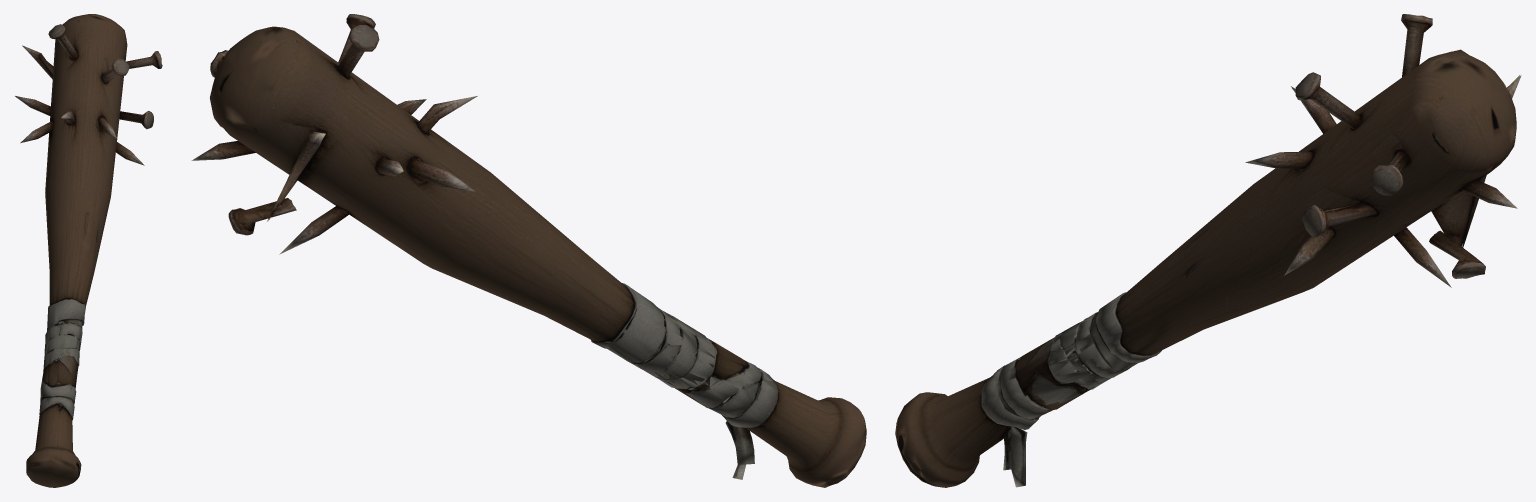
Rendered from selected.glb.
3 views of the same model, side by side, from view 1: azimuth 30°, elevation 25°; view 2: azimuth 150°, elevation 25°; view 3: azimuth 270°, elevation 25° (orthographic). The views are drawn at different scales.
Parts seen in each view (by area): view 1: tripo_node_e24f427e-9995-4c10-930d-7f1526f138fb; view 2: tripo_node_e24f427e-9995-4c10-930d-7f1526f138fb; view 3: tripo_node_e24f427e-9995-4c10-930d-7f1526f138fb.
Part boxes in pixels (box(x1,y1,x2,y2)): tripo_node_e24f427e-9995-4c10-930d-7f1526f138fb: box(15, 14, 162, 487); tripo_node_e24f427e-9995-4c10-930d-7f1526f138fb: box(191, 14, 866, 487); tripo_node_e24f427e-9995-4c10-930d-7f1526f138fb: box(895, 14, 1521, 487).
Size of the model in its own units: 0.8105 by 0.998 by 0.9629.
Materials: 1 (1 with a texture image).
